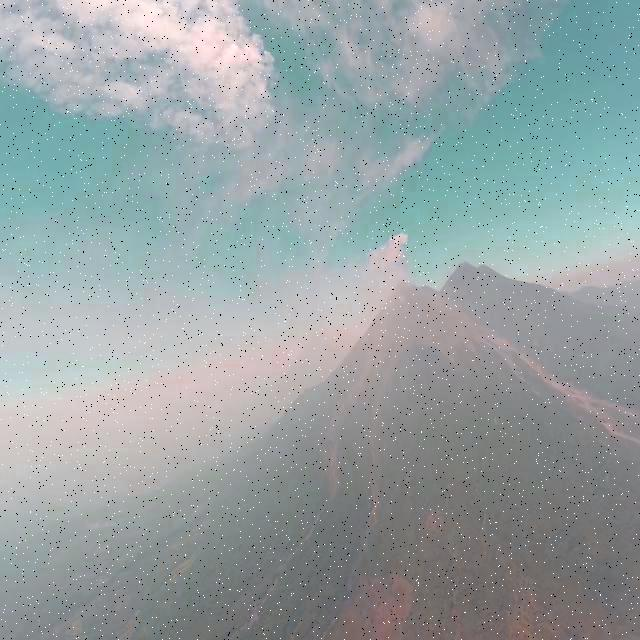Plume: (368, 227, 409, 287)
Summit: (389, 276, 417, 296)
